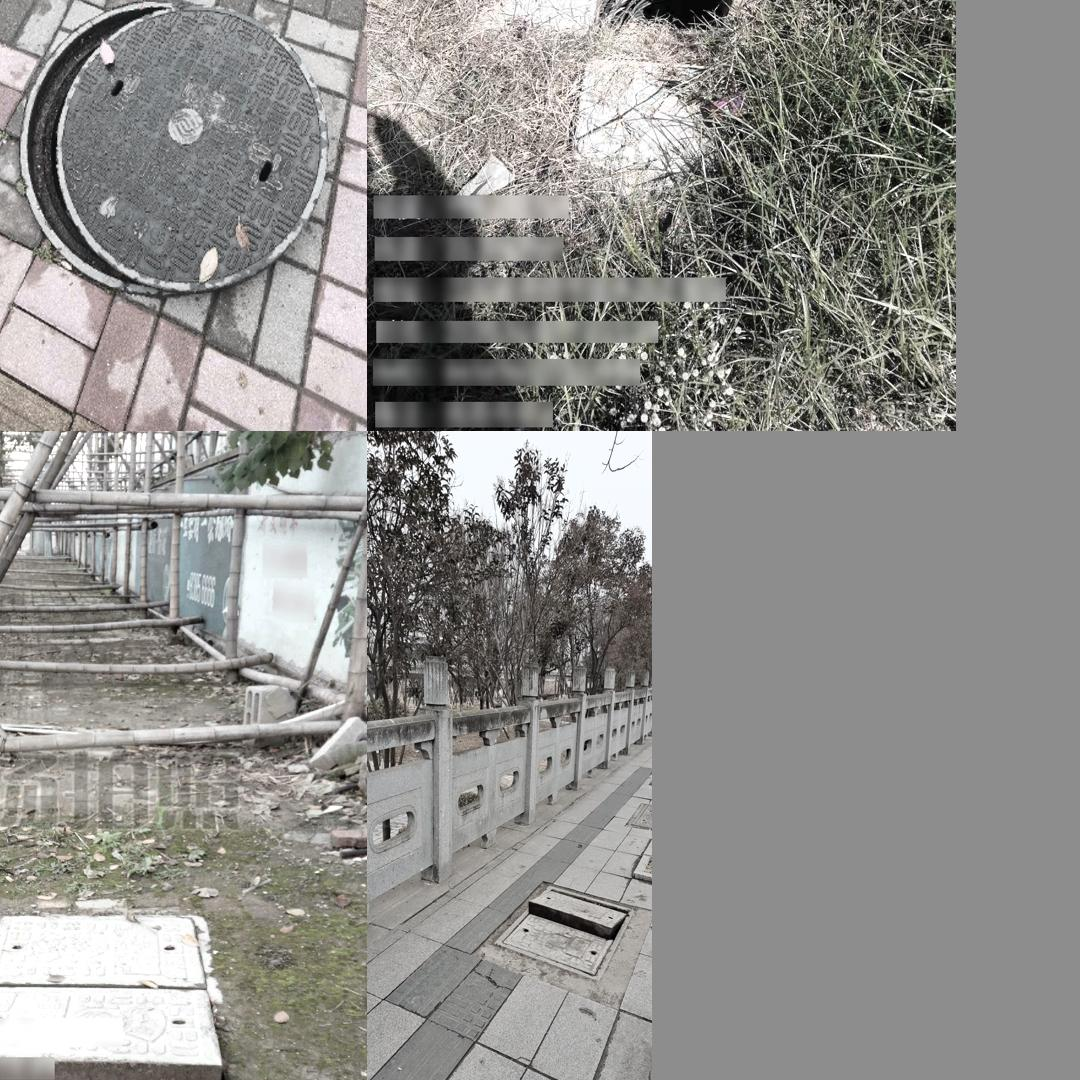uncovered: (18, 0, 327, 294), (0, 900, 228, 1080), (493, 882, 636, 980), (462, 0, 804, 28)
